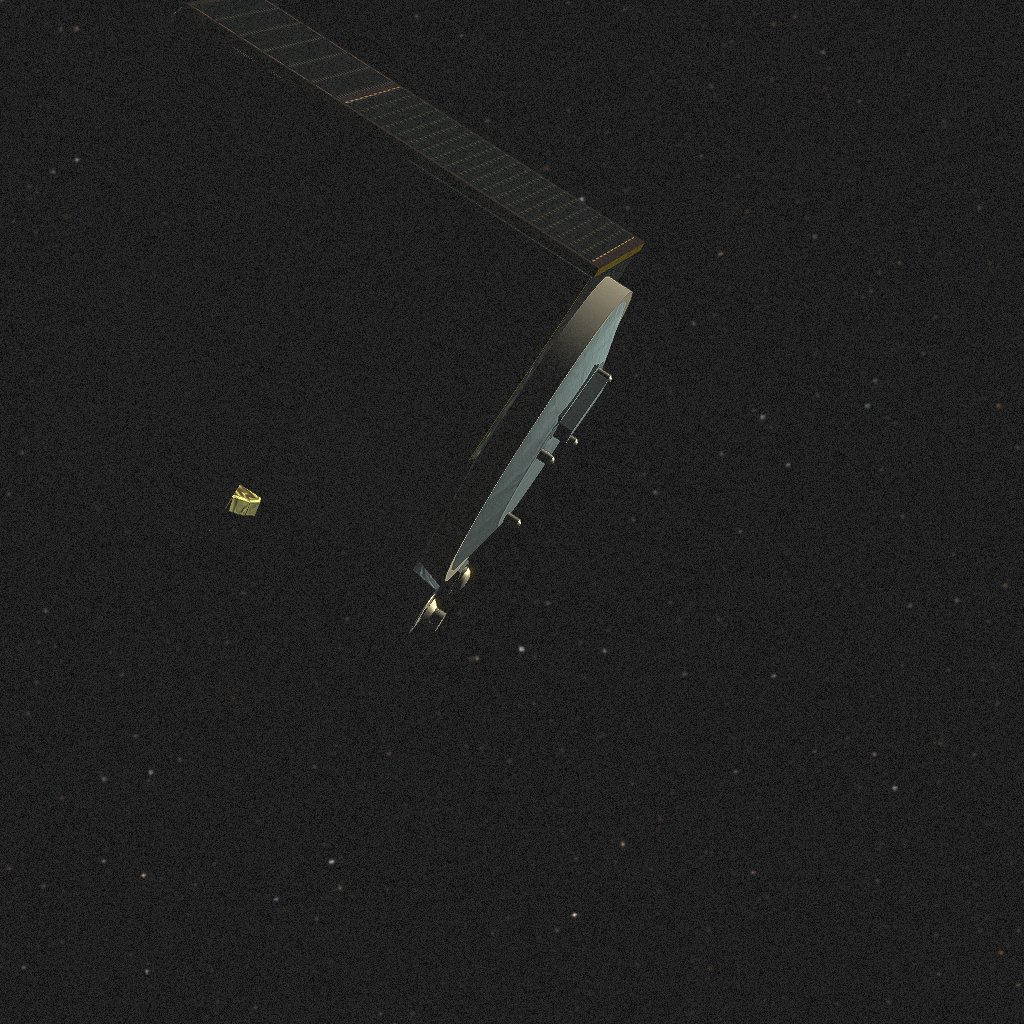cheops: (33, 0, 645, 635)
